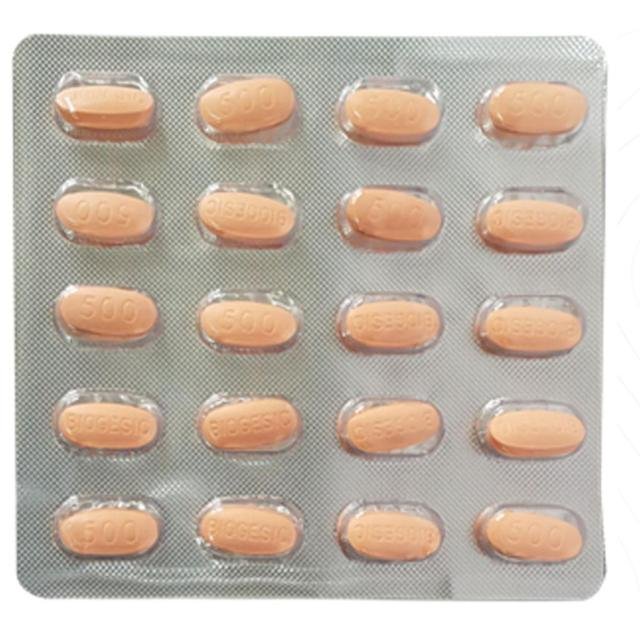blister: (10, 22, 611, 614)
